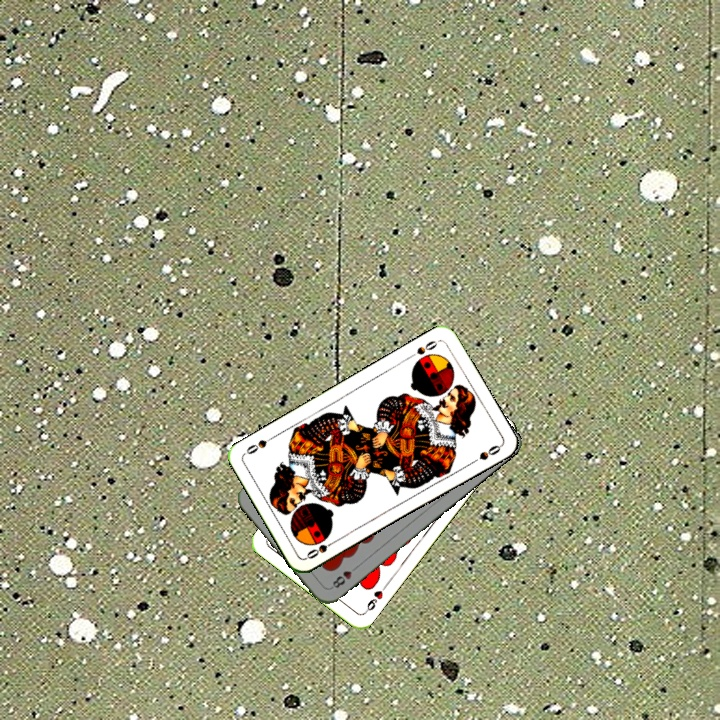H8: (327, 561, 361, 591)
H9: (360, 581, 389, 616)
SO: (302, 535, 339, 562), (404, 336, 441, 361)
